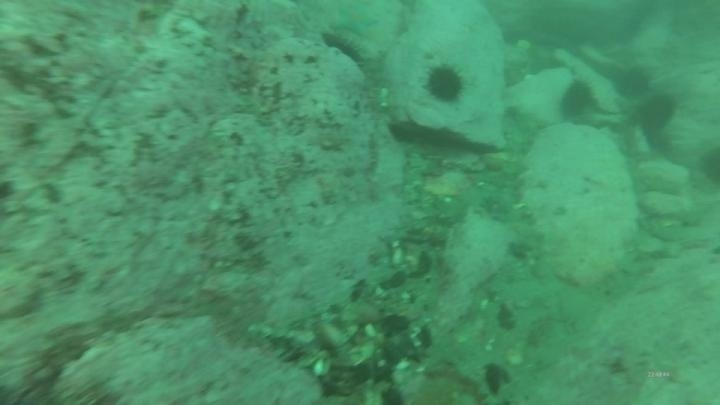echinus: (321, 29, 373, 81), (423, 62, 467, 106), (636, 92, 679, 133), (557, 78, 597, 122), (612, 64, 653, 100), (697, 144, 720, 188)
starfish: (331, 6, 381, 37)
